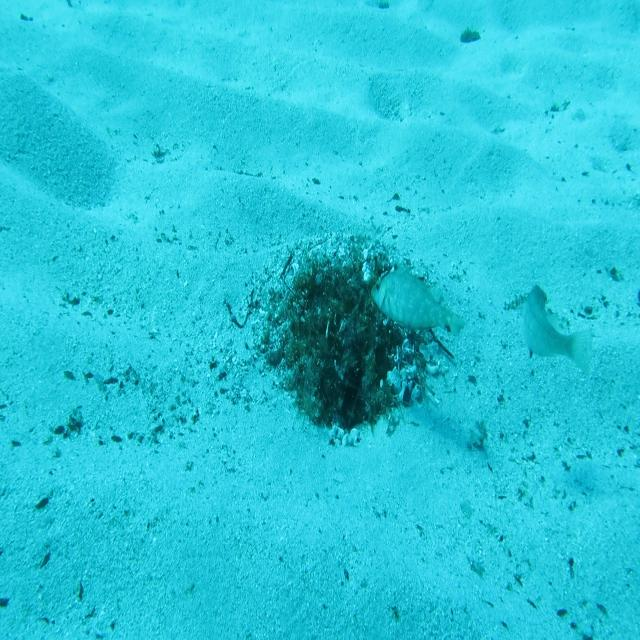ROLL: (369, 256, 471, 340)
core_nest: (318, 280, 367, 317)
female: (520, 279, 596, 378)
nest: (236, 216, 448, 450)
vegetation: (459, 25, 483, 45)
